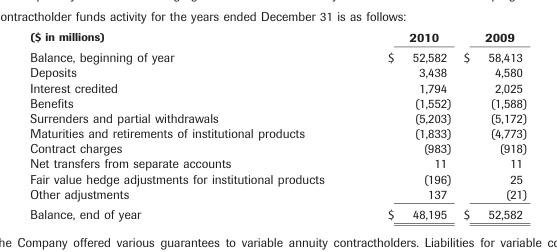table: (29, 29, 526, 221)
table column: (29, 29, 355, 221), (355, 29, 456, 221), (456, 29, 526, 221)
table column header: (29, 29, 526, 46)
table row: (29, 46, 526, 64), (29, 185, 526, 203), (29, 203, 526, 221), (29, 29, 526, 46), (29, 94, 526, 110), (29, 64, 526, 79), (29, 79, 526, 94), (29, 110, 526, 125), (29, 125, 526, 140), (29, 140, 526, 155), (29, 155, 526, 170), (29, 170, 526, 185)
